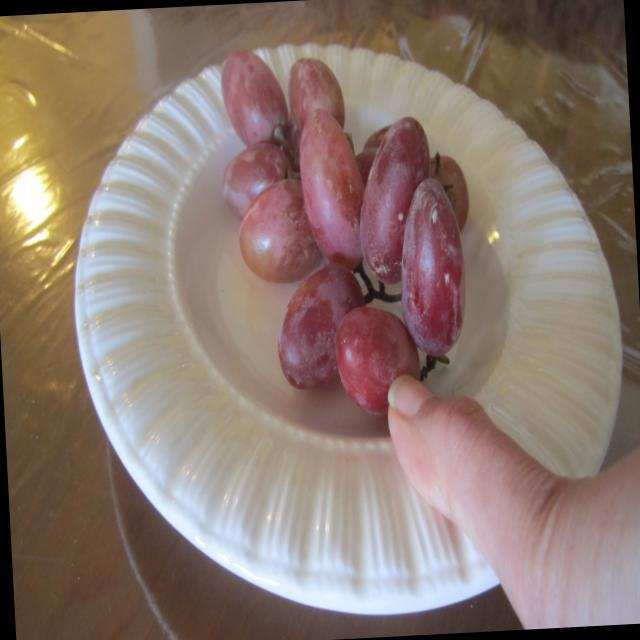Finger: (376, 368, 516, 542)
Grapes: (195, 38, 480, 392)
